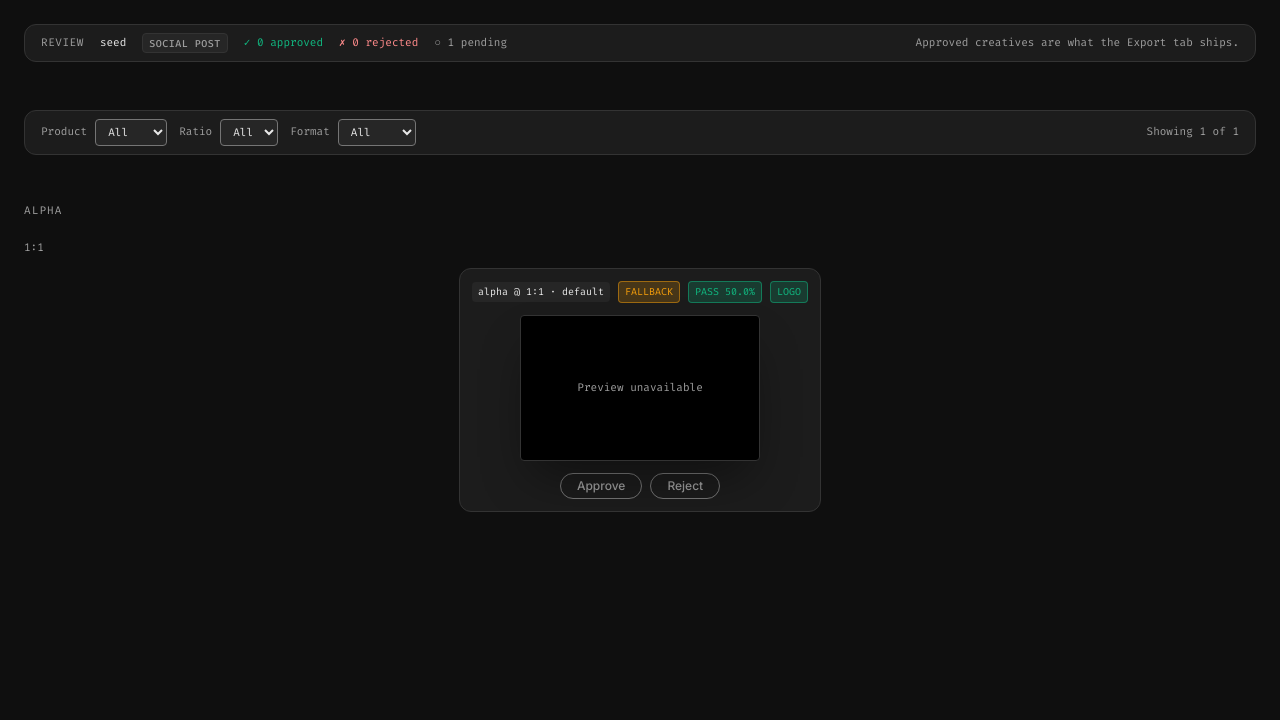
it: GridPage › approve and reject toggle a creative's decision
Click the button "Approve".
click(601, 486)  # box [560,473,642,499]
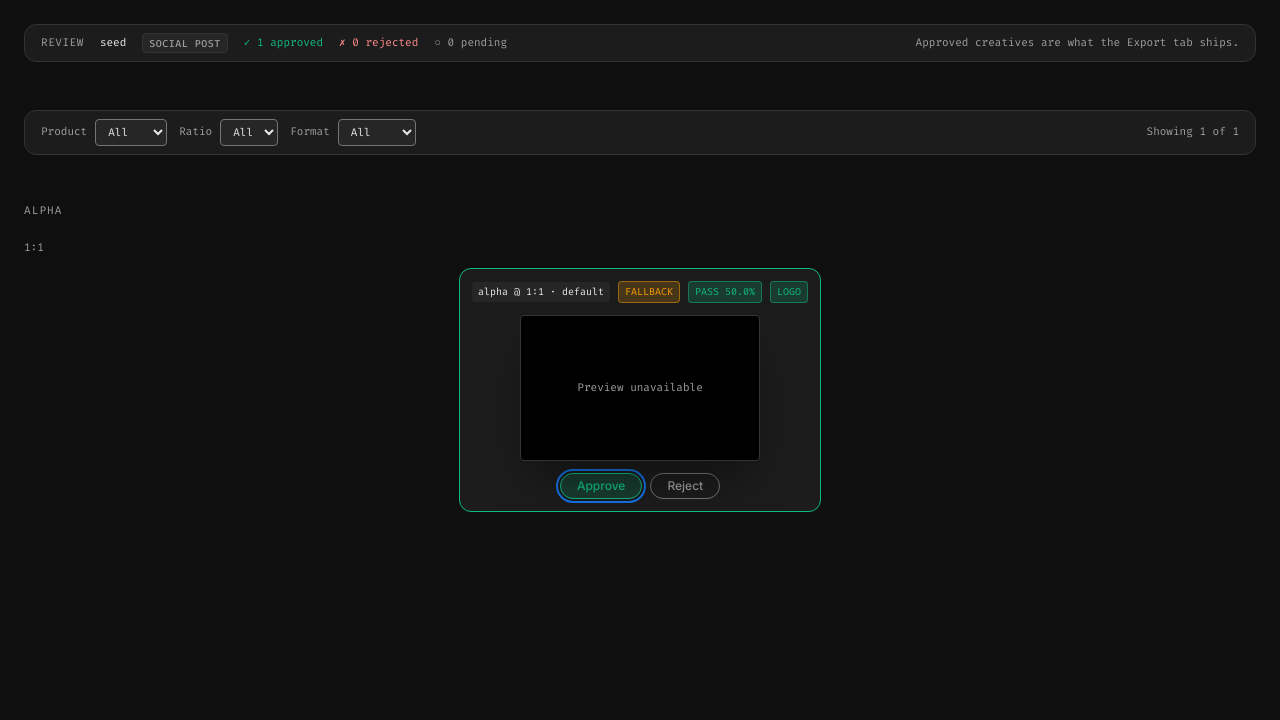
Expected: the text "✓ 1 approved" is shown, [244,35,323,51]
Click the button "Reject".
click(685, 486)  # box [650,473,720,499]
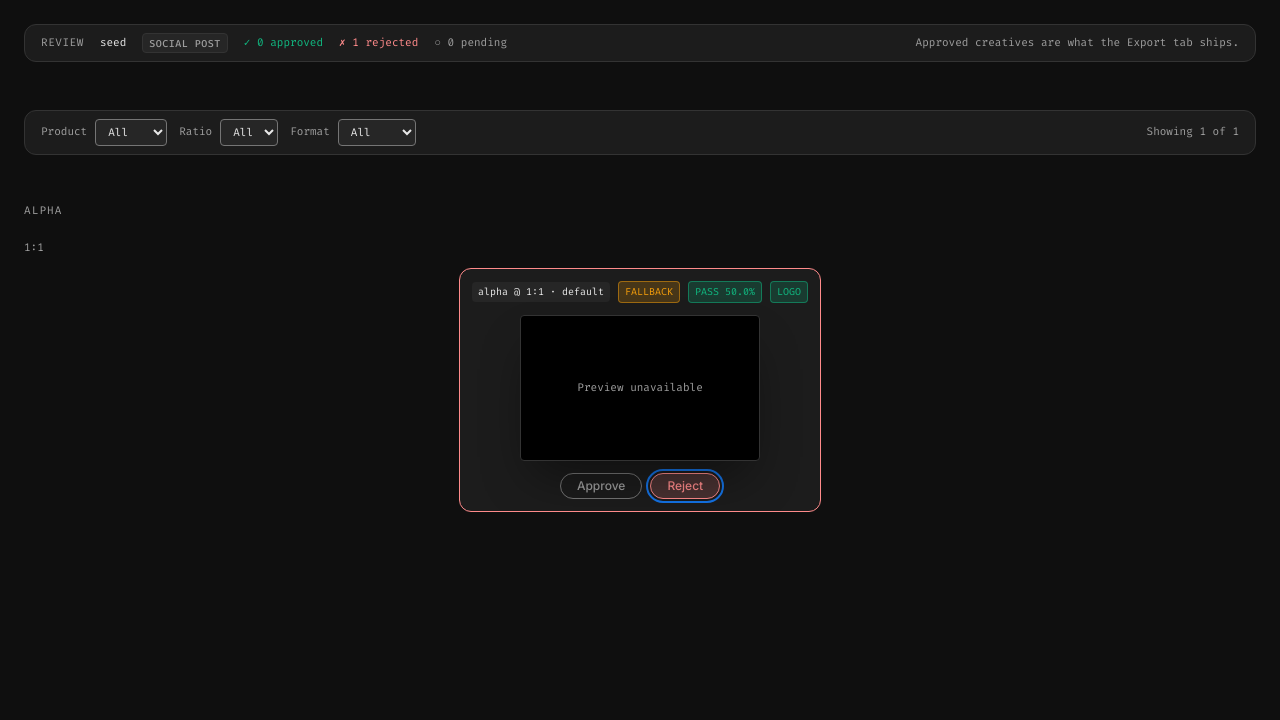
Expected: the text "✗ 1 rejected" is shown, [339,35,418,51]
